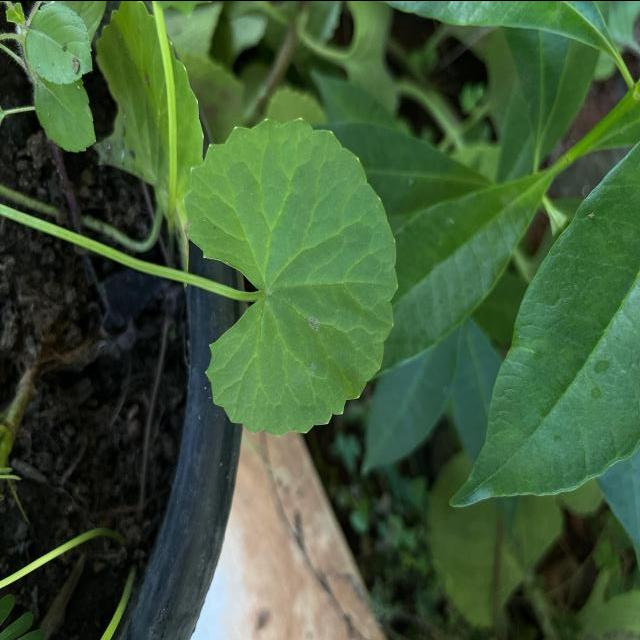Centella asiatica: (180, 111, 402, 441)
